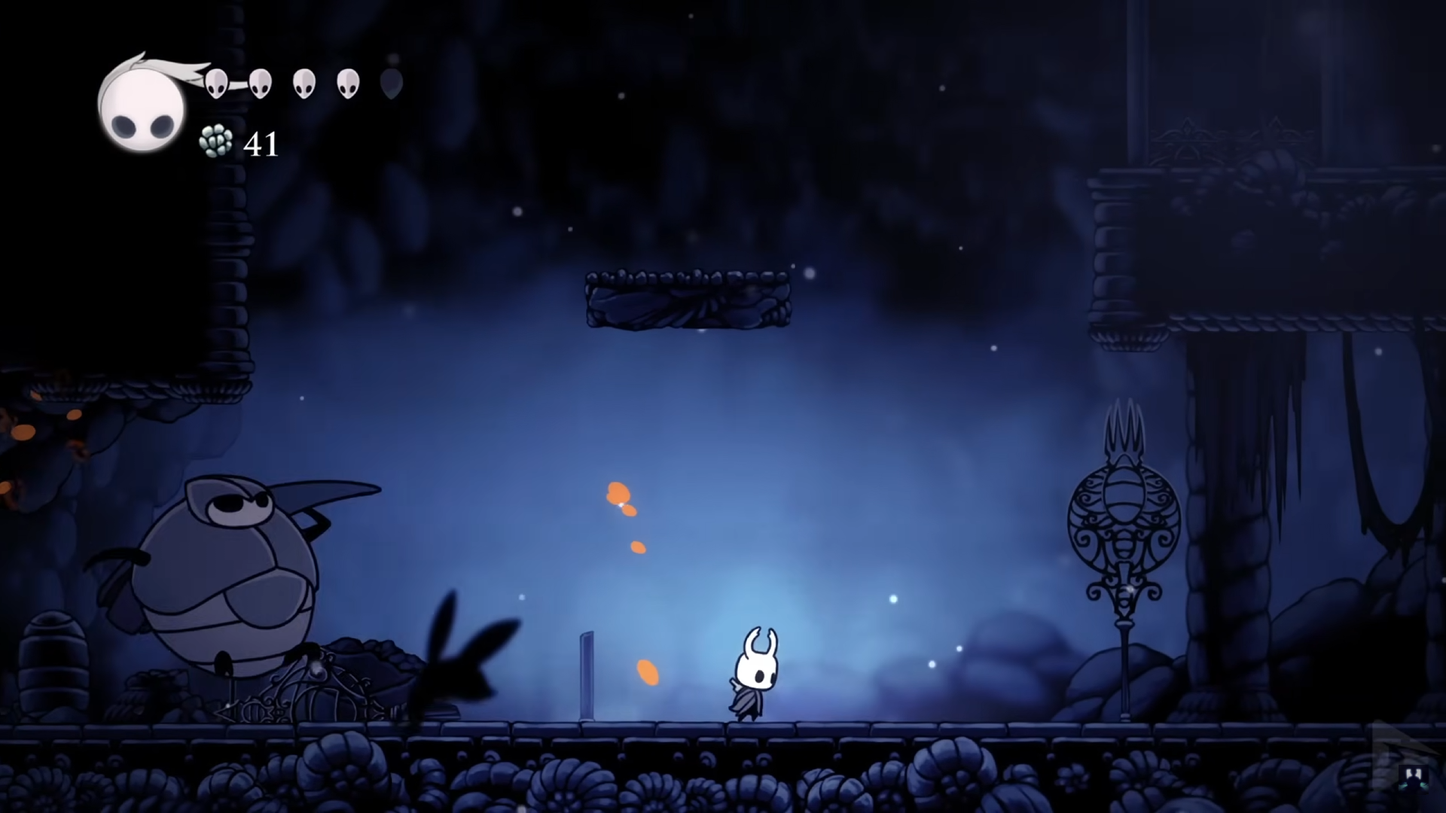HK: (718, 624, 785, 722)
